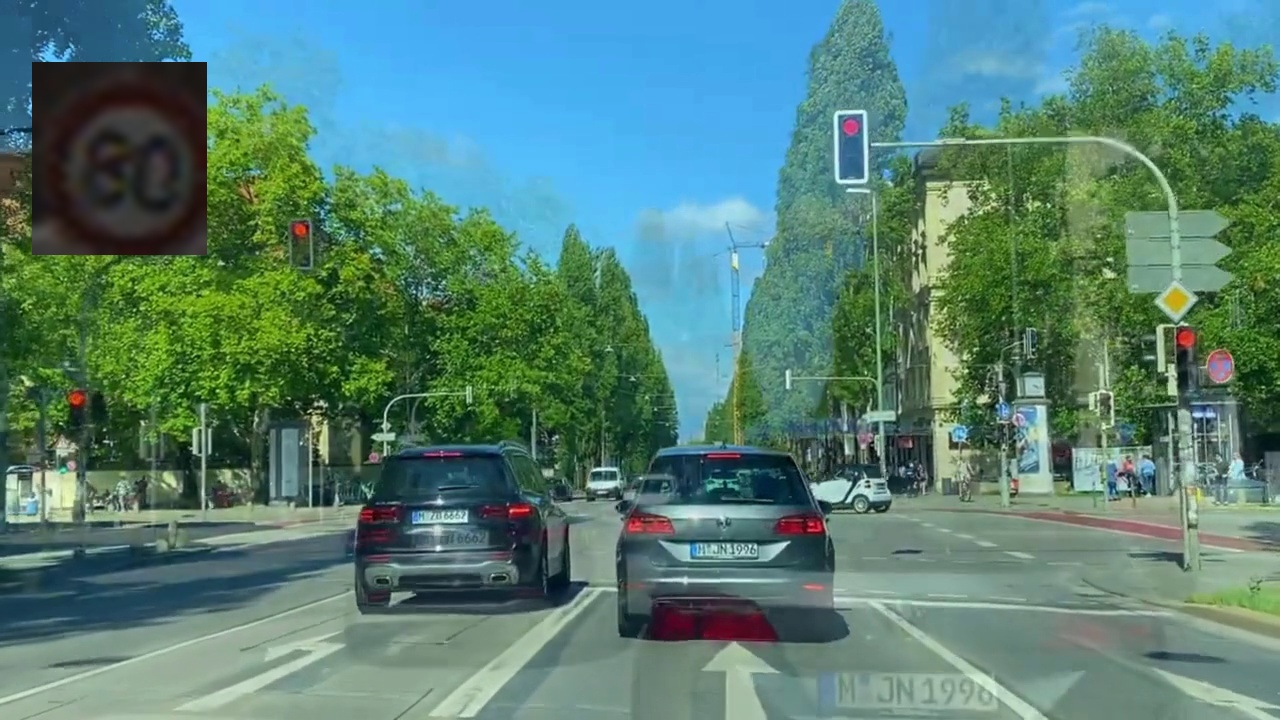Speed 80: (32, 62, 207, 255)
